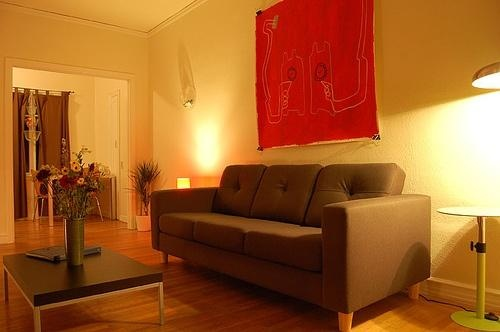pottedplant: (125, 161, 159, 236)
sofa: (153, 163, 434, 331)
